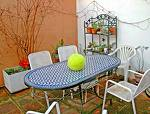tennis ball: (66, 53, 87, 72)
